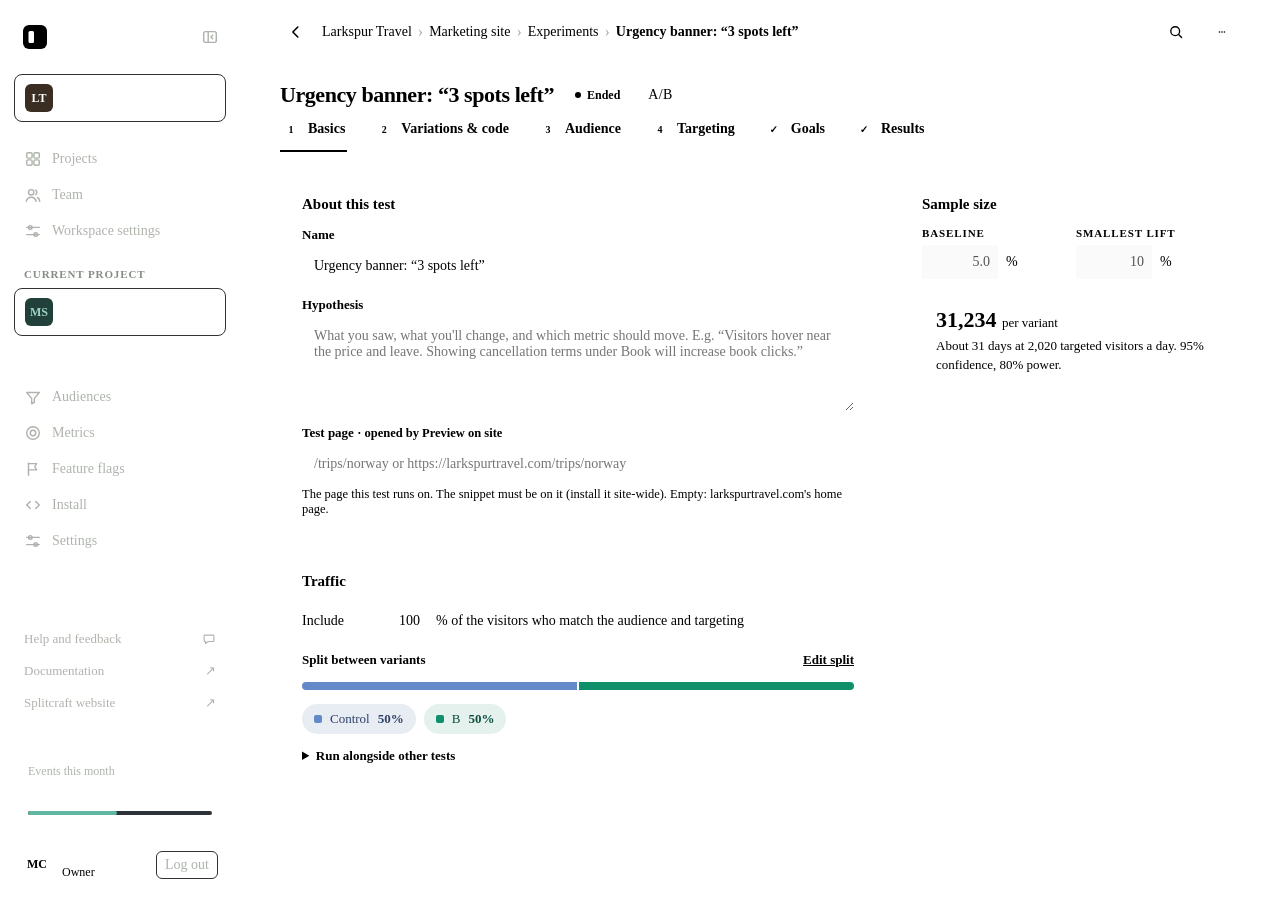
Test: experiment actions menu › moves focus with the arrow keys and closes on Escape
The width and height of the screenshot is (1280, 900).
Check: the navigation bar named "Experiment steps" is shown, box [280,108,925,152]
Click the button named "More actions": (1222, 32) [1204,14,1240,50]
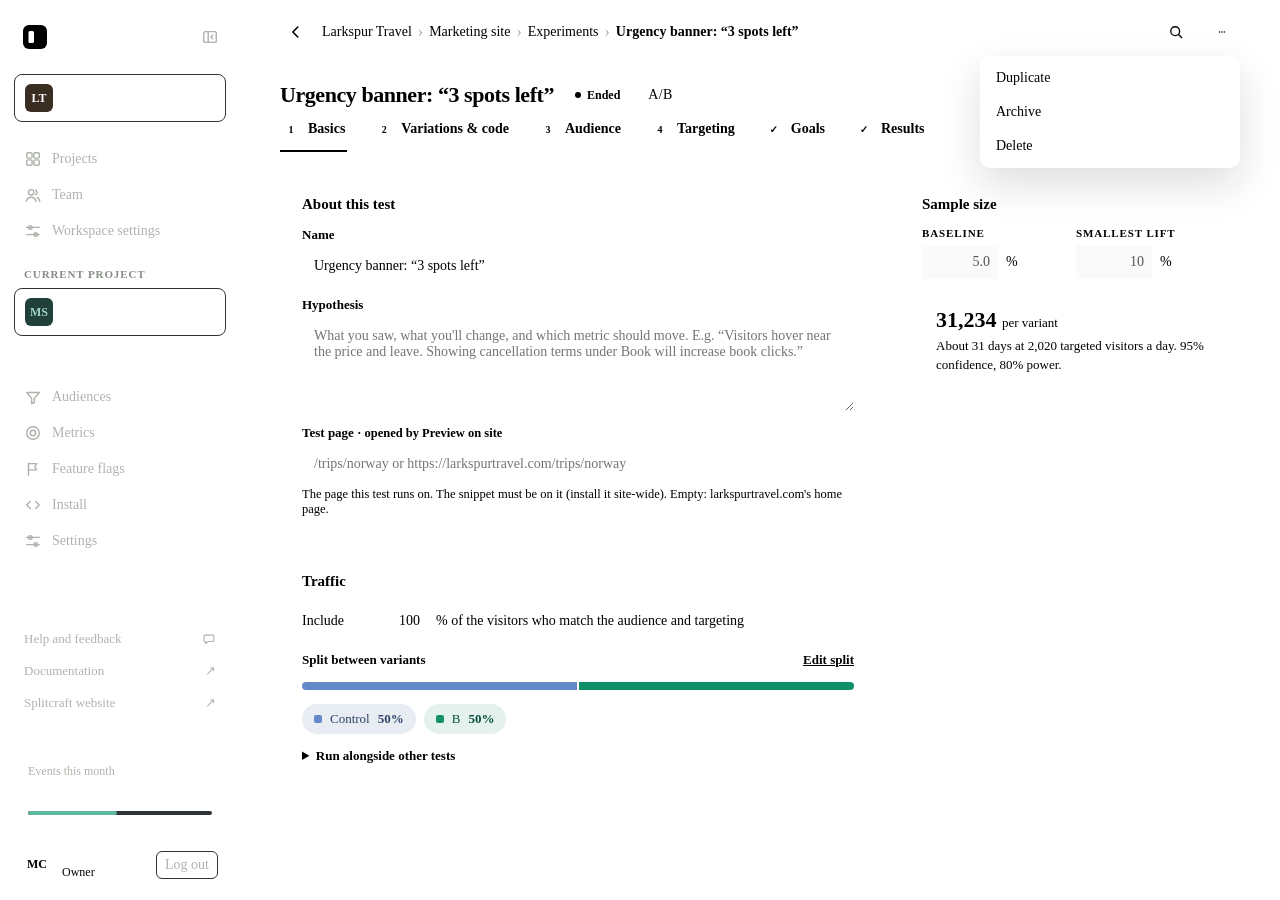
Check: the menu items read "Duplicate", "Archive", "Delete", in this order, box [986,62,1234,94]; [986,96,1234,128]; [986,130,1234,162]
Press Arrowup
Press Escape
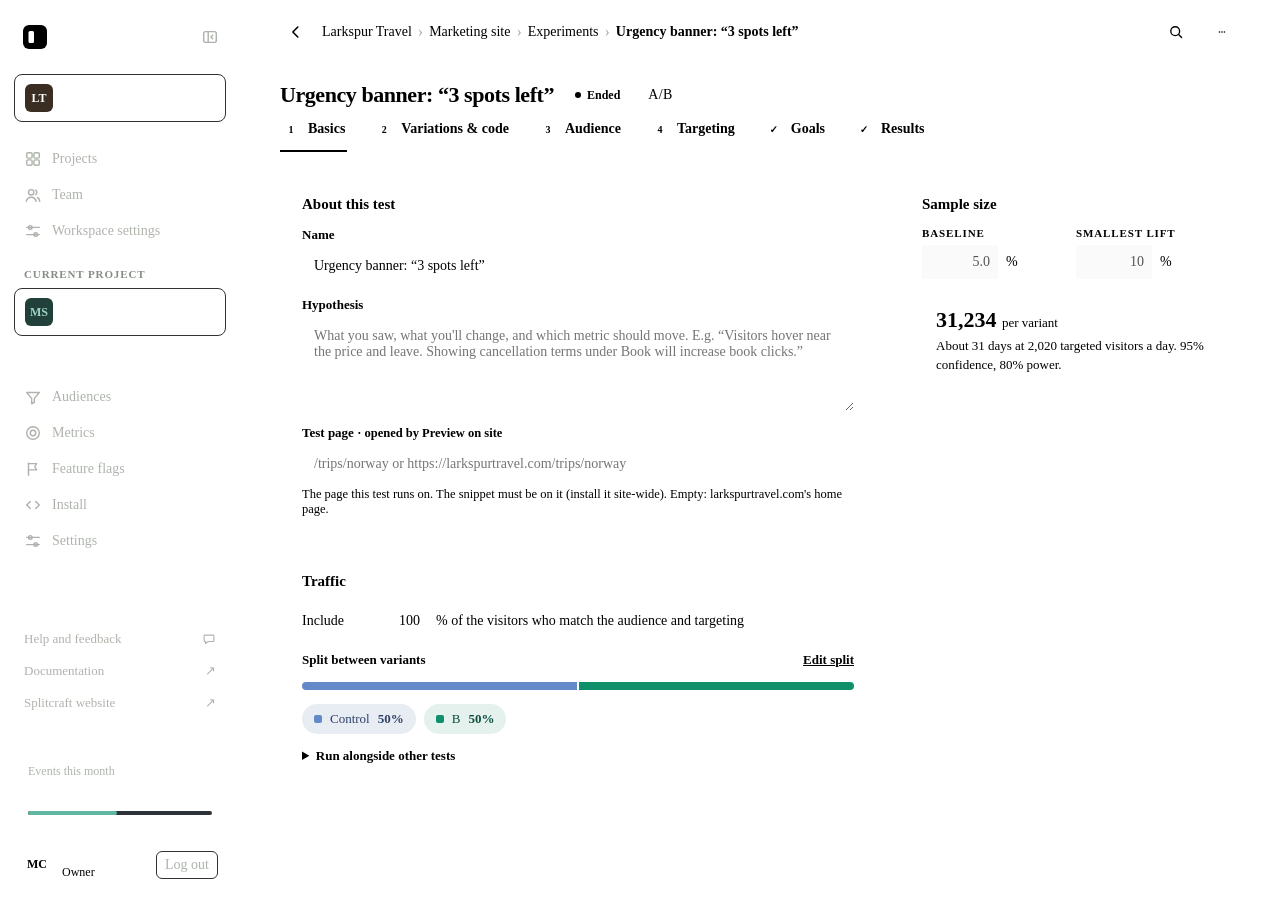
Check: the menu is gone
